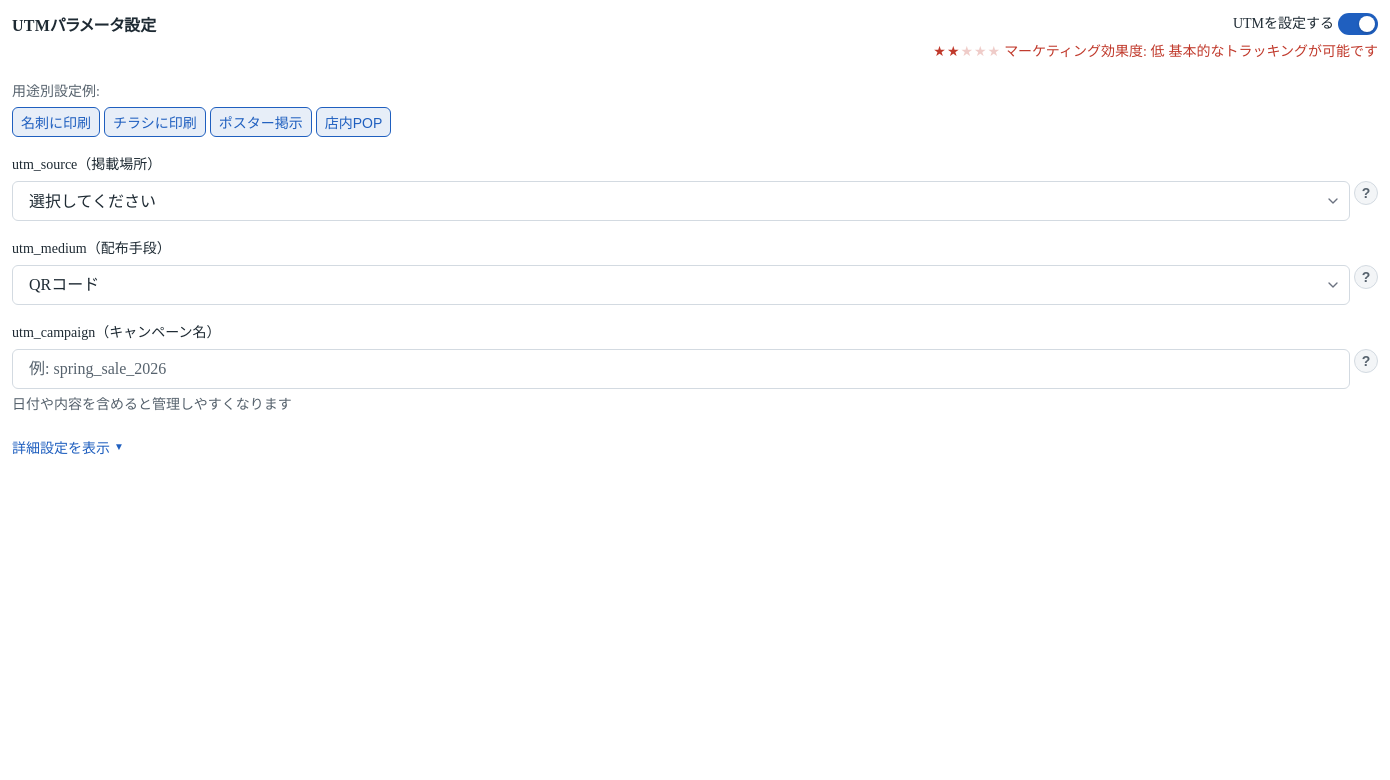
Scenario: UtmBuilder › 詳細設定の表示/非表示 › 「詳細設定を表示」ボタンクリックでterm/contentフィールドが表示されること
The image size is (1390, 780).
Click the button "詳細設定を表示 ▼".
click(68, 447)  # box [12, 433, 124, 461]
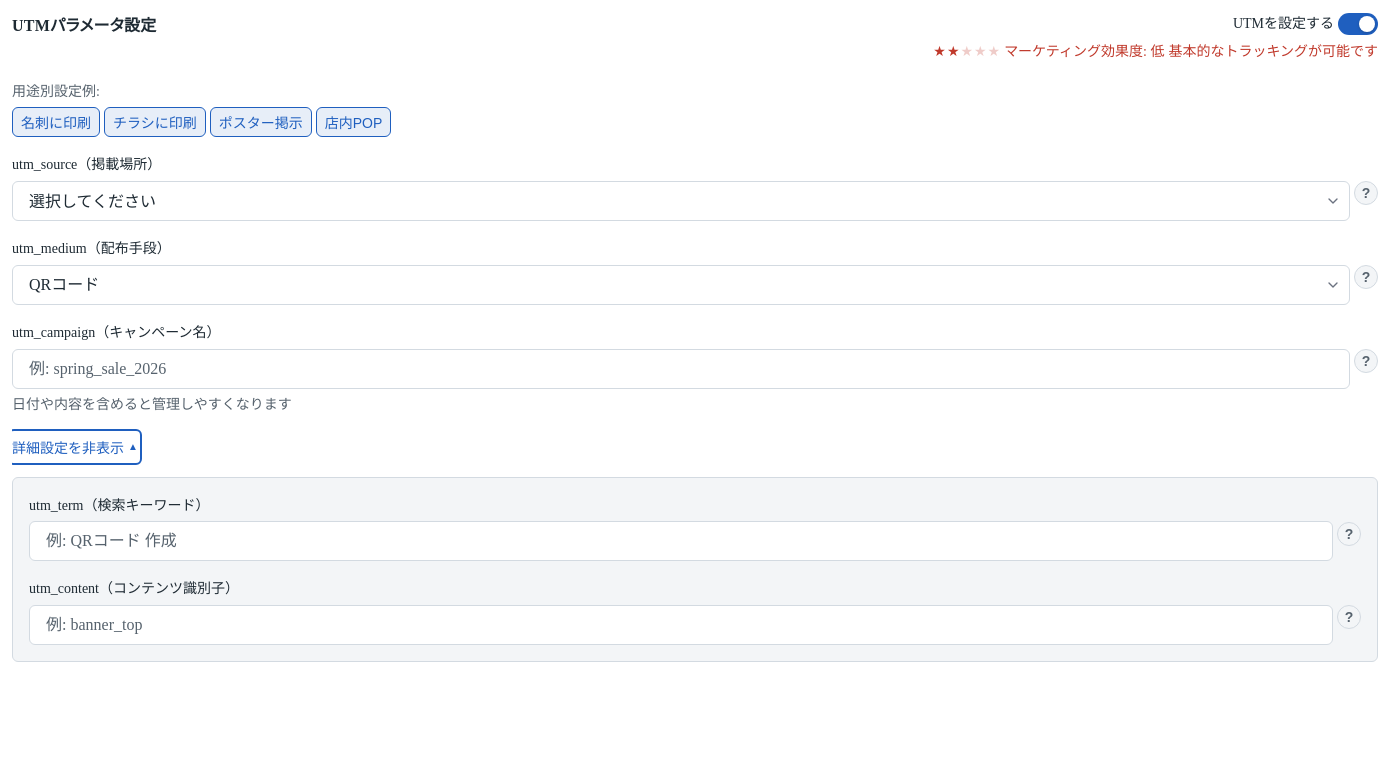
expect the field labelled "utm_term（検索キーワード）" is shown: met, box [29, 521, 1333, 561]
expect the field labelled "utm_content（コンテンツ識別子）" is shown: met, box [29, 605, 1333, 645]
